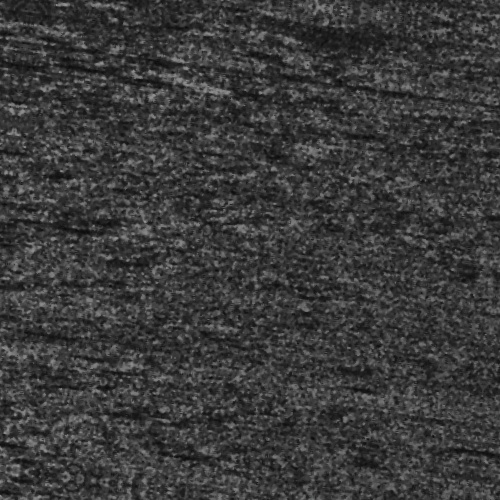shadow: (487, 360, 500, 367)
